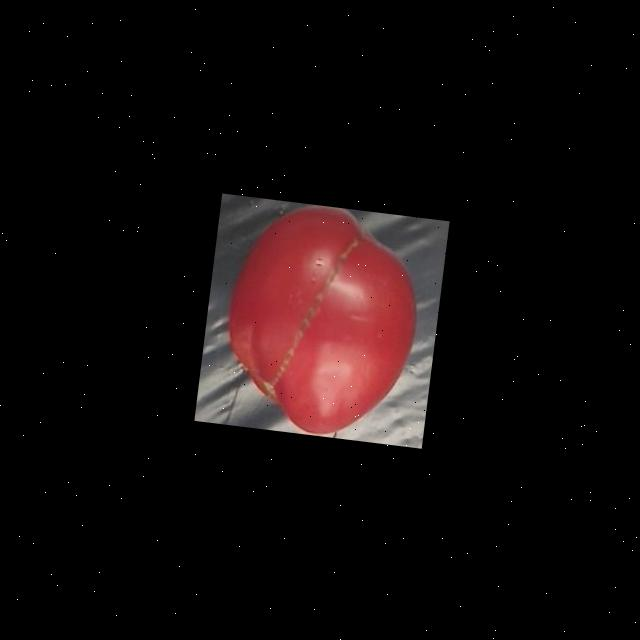tomato: (207, 195, 430, 446)
